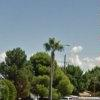Palm tree: (40, 29, 65, 92)
